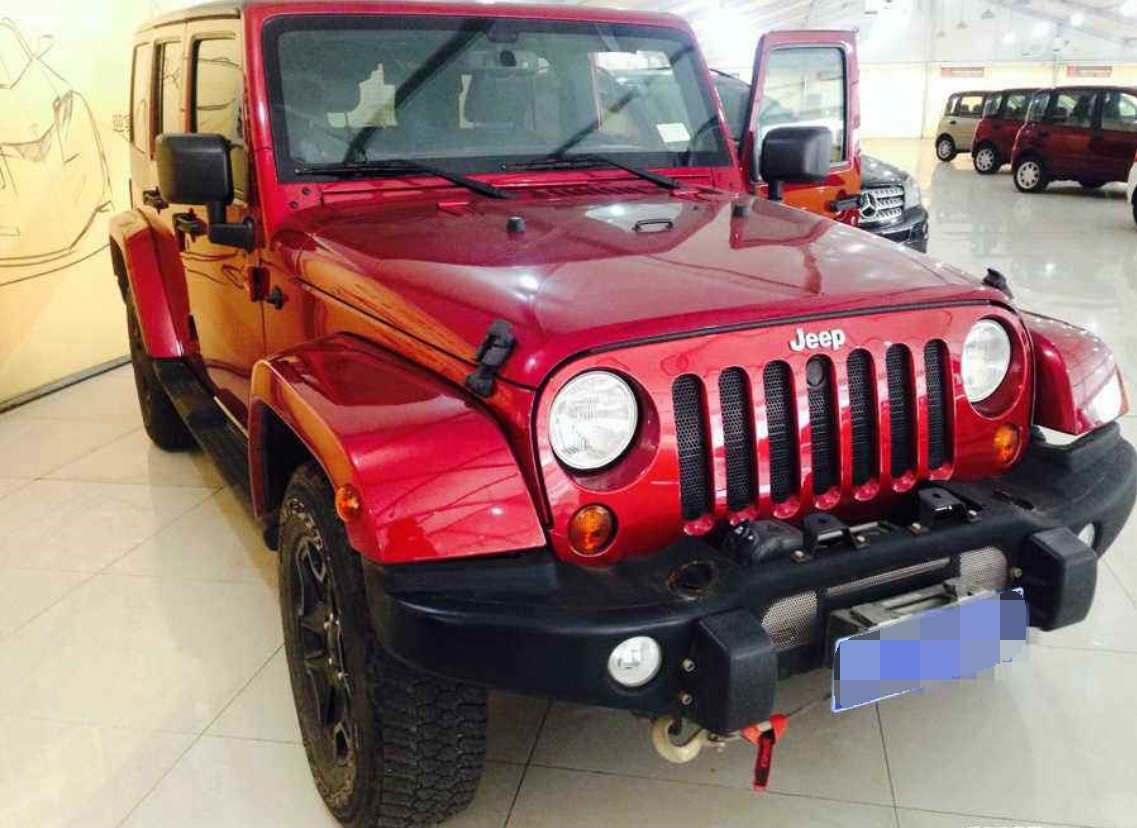jeep: (79, 13, 1100, 807)
